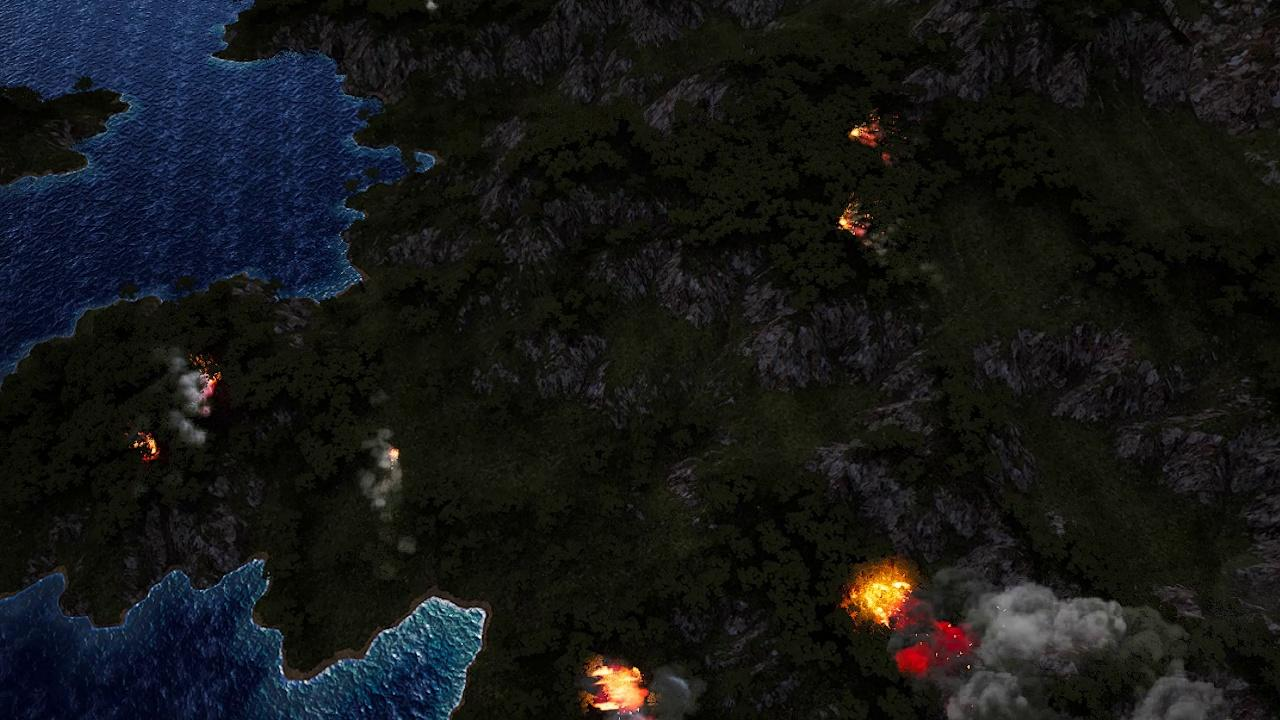fire: (848, 572, 912, 625), (585, 663, 645, 713), (848, 119, 880, 149), (837, 208, 866, 239), (132, 433, 160, 460), (204, 369, 220, 397), (387, 446, 399, 460)
smoke: (887, 571, 1256, 718), (359, 417, 423, 562), (155, 345, 211, 447), (647, 664, 705, 719), (422, 0, 446, 19)
